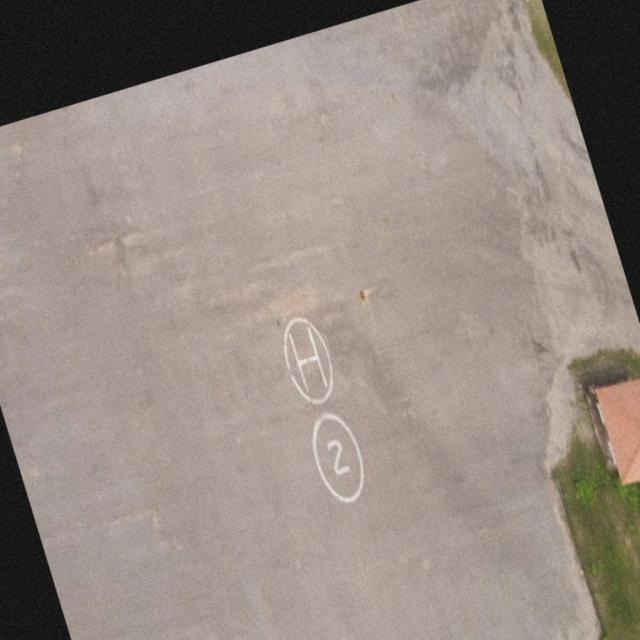helipad: (278, 310, 339, 406)
